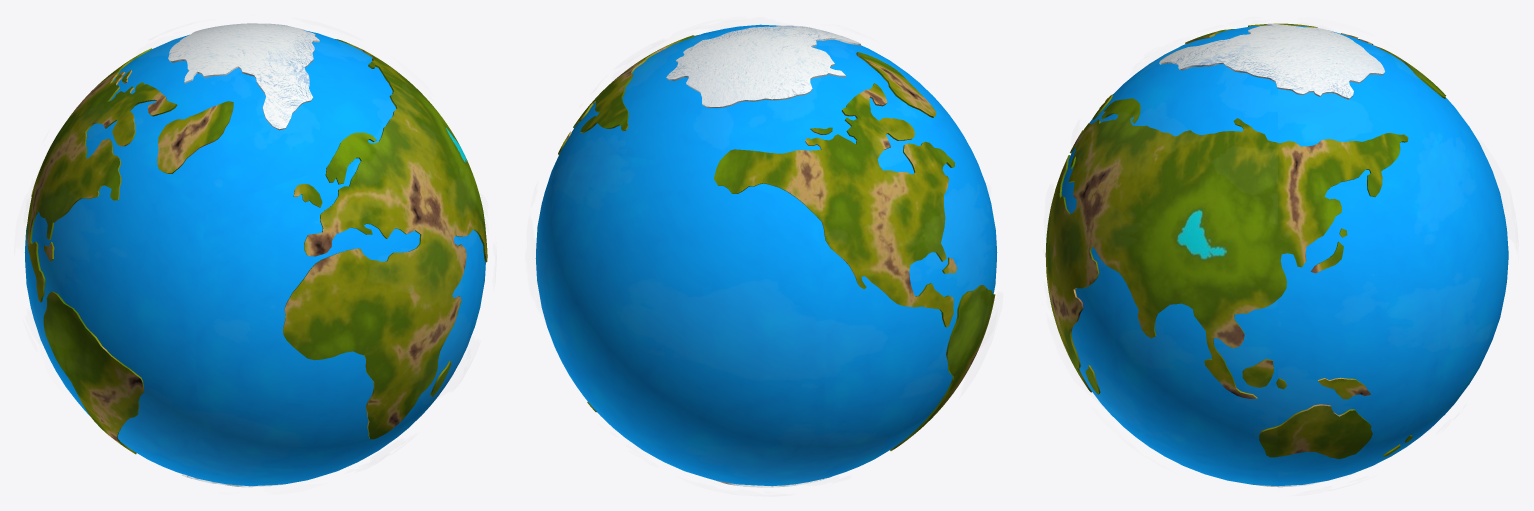
File: little_planet_earth.glb
3 views of the same model, side by side, from view 1: azimuth 30°, elevation 25°; view 2: azimuth 150°, elevation 25°; view 3: azimuth 270°, elevation 25° (orthographic).
Visible parts, largest first — view 1: Ocean_Mat_0, CONT_Extrude_Mat.3_0, SP_Extrude_Ice_0; view 2: Ocean_Mat_0, CONT_Extrude_Mat.3_0, SP_Extrude_Ice_0; view 3: Ocean_Mat_0, CONT_Extrude_Mat.3_0, SP_Extrude_Ice_0.
Boxes of the visible parts, bbox=[...] form: Ocean_Mat_0: bbox=[24, 30, 485, 486]; CONT_Extrude_Mat.3_0: bbox=[26, 39, 487, 454]; SP_Extrude_Ice_0: bbox=[168, 23, 319, 487]; Ocean_Mat_0: bbox=[535, 24, 997, 486]; CONT_Extrude_Mat.3_0: bbox=[558, 34, 995, 450]; SP_Extrude_Ice_0: bbox=[666, 25, 860, 487]; Ocean_Mat_0: bbox=[1061, 25, 1508, 486]; CONT_Extrude_Mat.3_0: bbox=[1045, 23, 1445, 459]; SP_Extrude_Ice_0: bbox=[1159, 23, 1384, 487].
Bounding box in the file's own units: 1040 × 1040 × 1040.
Materials: 4 (3 with a texture image).
